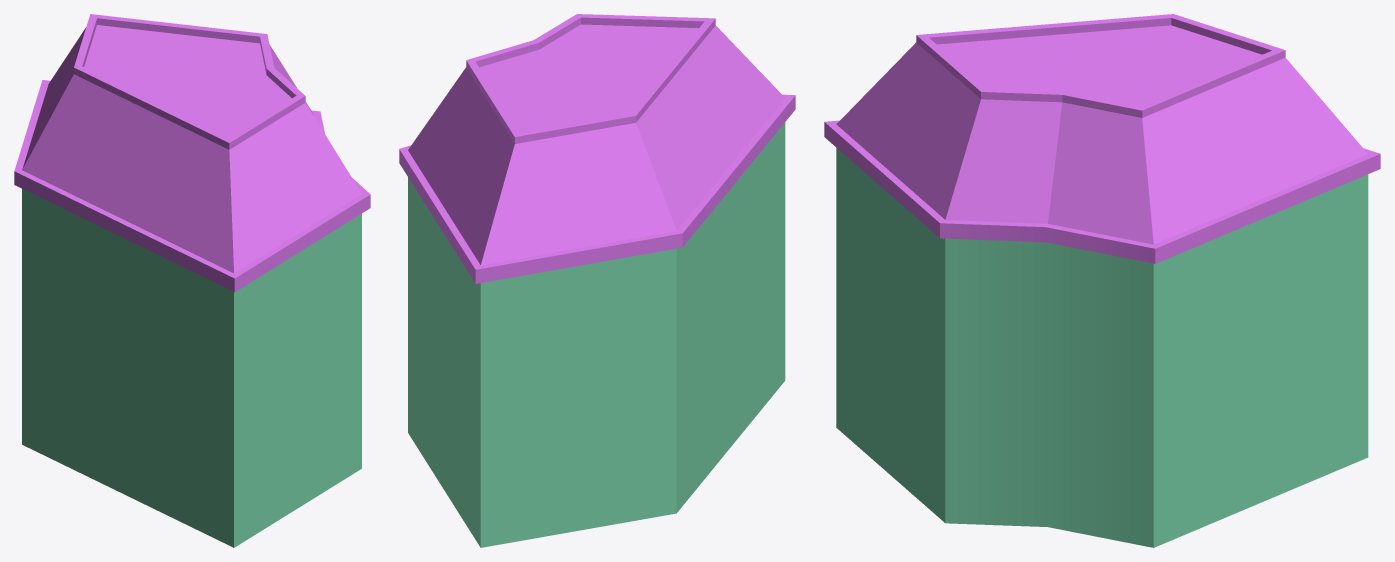
The model's file is Batiment2.fbx.
The picture shows the model from 3 angles, left to right: view 1: azimuth 30°, elevation 25°; view 2: azimuth 150°, elevation 25°; view 3: azimuth 270°, elevation 25°; orthographic projection. The views are drawn at different scales.
Parts seen in each view (by area): view 1: Batiment2; view 2: Batiment2; view 3: Batiment2.
Boxes of the visible parts, bbox=[...] form: Batiment2: bbox=[14, 14, 370, 547]; Batiment2: bbox=[399, 14, 795, 547]; Batiment2: bbox=[824, 14, 1380, 547].
Bounding box in the file's own units: 27.12 × 33.03 × 40.65.
